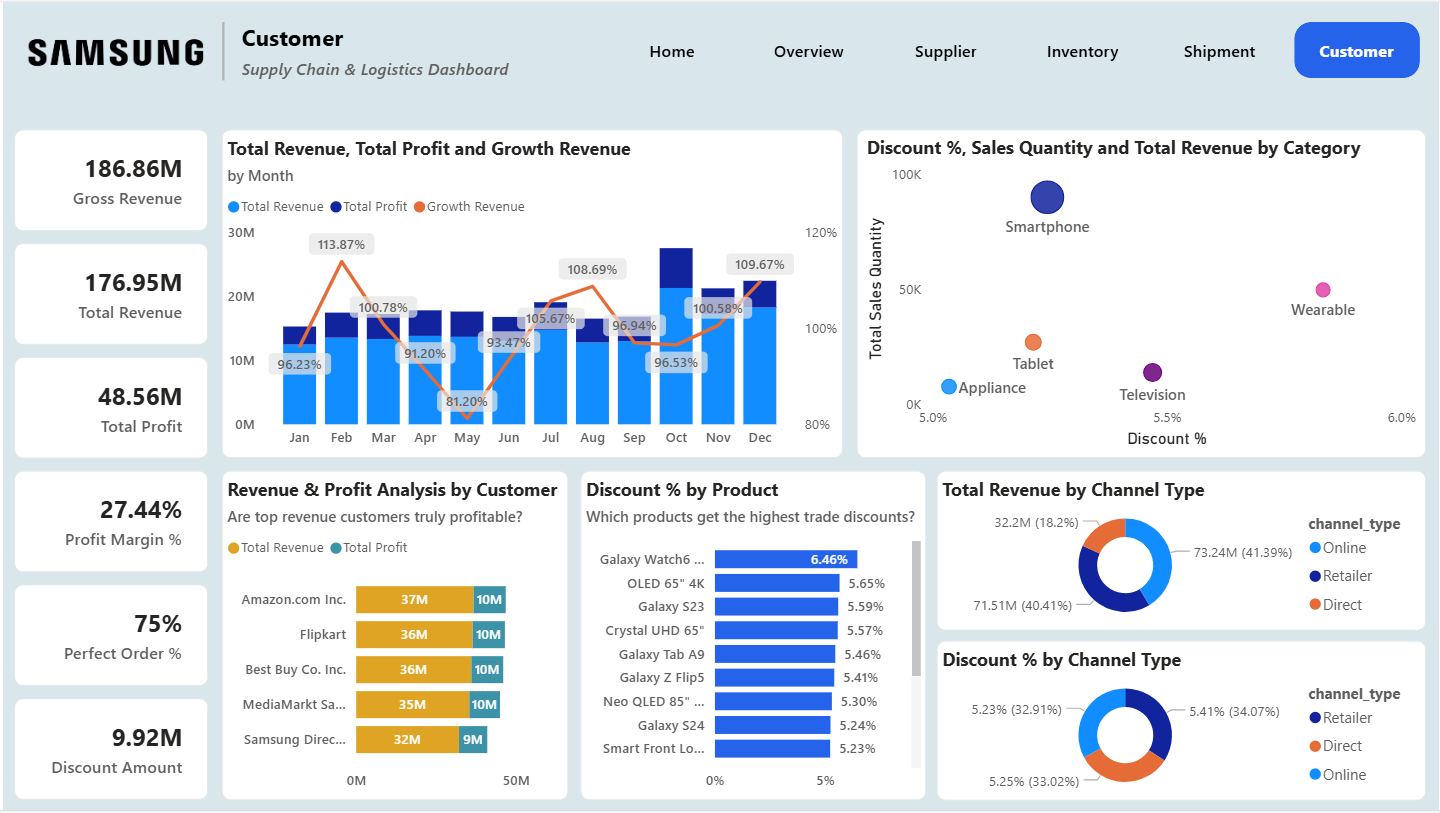

The page's visual inventory and layout, read from the dashboard file:
{"tool":"powerbi","page":{"name":"Customer","canvas":[1280,720],"ordinal":5},"visuals":[{"type":"shape","title":"Customer","box":[212.5,17.5,240,52.5],"z":0},{"type":"shape","box":[182.1,17.9,27.4,52.4],"z":1000},{"type":"image","box":[9.5,17.9,173.8,53.6],"z":2000},{"type":"cardVisual","fields":{"Data":["_Measures.Total Revenue"]},"box":[9.6,215.3,172.6,90],"z":3000},{"type":"cardVisual","fields":{"Data":["_Measures.Total Profit"]},"box":[9.6,316.6,172.6,90],"z":4000},{"type":"cardVisual","fields":{"Data":["_Measures.Profit Margin %"]},"box":[9.6,418,172.6,90],"z":5000},{"type":"cardVisual","fields":{"Data":["_Measures.Perfect Order %"]},"box":[9.6,519.4,172.6,90],"z":6000},{"type":"cardVisual","fields":{"Data":["Sum(fact_sales.discount_amount)"]},"box":[9.6,620.8,172.6,90],"z":7000},{"type":"cardVisual","fields":{"Data":["Sum(fact_sales.gross_revenue)"]},"box":[9.6,113.9,172.6,90],"z":8000},{"type":"barChart","title":"Revenue & Profit Analysis by Customer","fields":{"Category":["dim_customer.customer_name"],"Y":["_Measures.Total Revenue","_Measures.Total Profit"]},"box":[195,417.5,308.8,293.8],"z":9000},{"type":"donutChart","title":"Total Revenue by Channel Type","fields":{"Category":["dim_customer.channel_type"],"Y":["_Measures.Total Revenue"]},"box":[832.5,417.5,436.2,142.5],"z":10000},{"type":"lineStackedColumnComboChart","title":"Total Revenue, Total Profit and Growth Revenue","fields":{"Category":["dim_date.Month_Short"],"Y":["_Measures.Total Revenue","_Measures.Total Profit"],"Y2":["_Measures.Growth Revenue"]},"box":[195,113.8,553.8,292.5],"z":11000},{"type":"scatterChart","title":"Discount %, Sales Quantity and Total Revenue by Category","fields":{"Series":["dim_product.category"],"Size":["_Measures.Total Revenue"],"X":["_Measures.Discount %"],"Y":["_Measures.Total Sales Quantity"]},"box":[761.2,113.8,507.5,292.5],"z":12000},{"type":"clusteredBarChart","title":"Discount % by Product","fields":{"Category":["dim_product.product_name"],"Y":["_Measures.Discount %"]},"box":[515,417.5,308,293.8],"z":13000},{"type":"donutChart","title":"Discount % by Channel Type","fields":{"Category":["dim_customer.channel_type"],"Y":["_Measures.Discount %"]},"box":[832.5,568.8,436.2,142.5],"z":14000},{"type":"pageNavigator","box":[540,17.5,723.8,50],"z":14001}]}

Visuals, with their boxes in screenshot pixels (x1, y1, x2, y2), scaled from the page's 1280x720 canvas onto the 1440x813 screenshot:
"Customer" shape: (239,20,509,79)
shape: (205,20,236,79)
image: (11,20,206,81)
cardVisual - _Measures.Total Revenue: (11,243,205,345)
cardVisual - _Measures.Total Profit: (11,357,205,459)
cardVisual - _Measures.Profit Margin %: (11,472,205,574)
cardVisual - _Measures.Perfect Order %: (11,586,205,688)
cardVisual - Sum(fact_sales.discount_amount): (11,701,205,803)
cardVisual - Sum(fact_sales.gross_revenue): (11,129,205,230)
"Revenue & Profit Analysis by Customer" barChart: (219,471,567,803)
"Total Revenue by Channel Type" donutChart: (937,471,1427,632)
"Total Revenue, Total Profit and Growth Revenue" lineStackedColumnComboChart: (219,128,842,459)
"Discount %, Sales Quantity and Total Revenue by Category" scatterChart: (856,128,1427,459)
"Discount % by Product" clusteredBarChart: (579,471,926,803)
"Discount % by Channel Type" donutChart: (937,642,1427,803)
pageNavigator: (608,20,1422,76)
